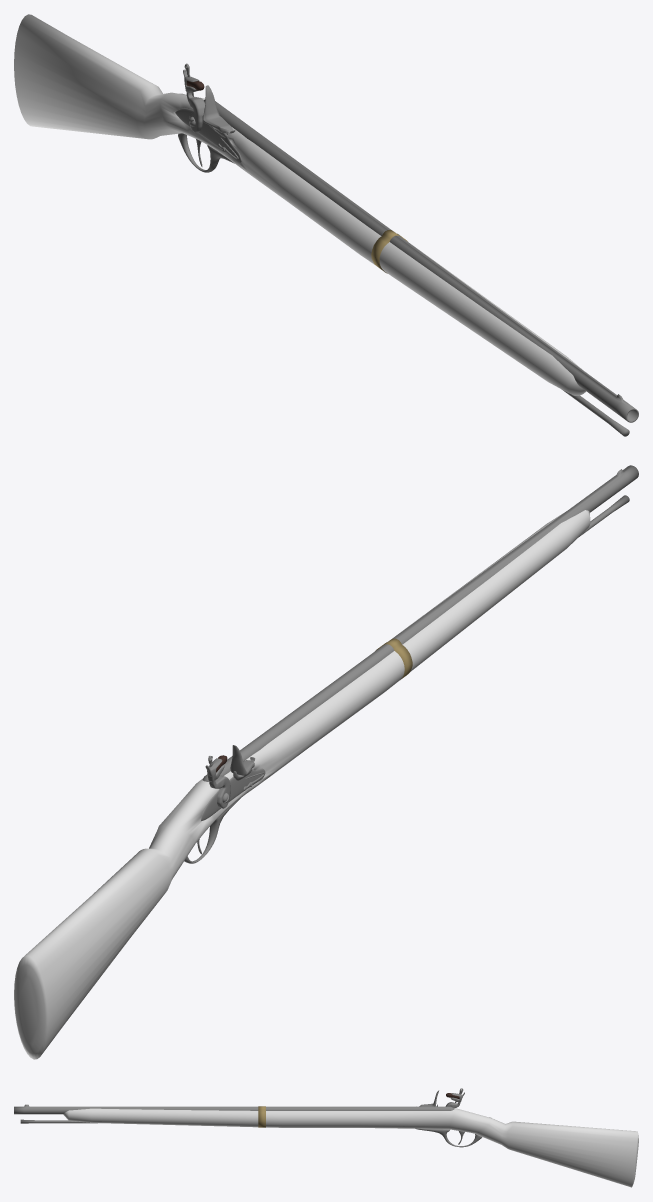
File: musket-anquite-rifle__mosquete.glb
3 renders of one model, top to bottom at view 1: azimuth 30°, elevation 25°; view 2: azimuth 150°, elevation 25°; view 3: azimuth 270°, elevation 25°, orthographic. The views are drawn at different scales.
Visible parts, largest first — view 1: Mosquete, Martillo, Placa, Cube; view 2: Mosquete; view 3: Mosquete, Guarbamontes, Martillo, Cylinder.
Boxes of the visible parts, x1,y1,x2,y2 form: Mosquete: [14, 14, 638, 436]; Martillo: [183, 63, 205, 132]; Placa: [175, 108, 241, 162]; Cube: [203, 85, 235, 134]; Mosquete: [14, 465, 638, 1059]; Mosquete: [14, 1104, 638, 1187]; Guarbamontes: [415, 1128, 482, 1147]; Martillo: [445, 1088, 464, 1107]; Cylinder: [258, 1106, 265, 1127].
Size of the model in its own units: 0.1761 by 0.8043 by 4.75.
